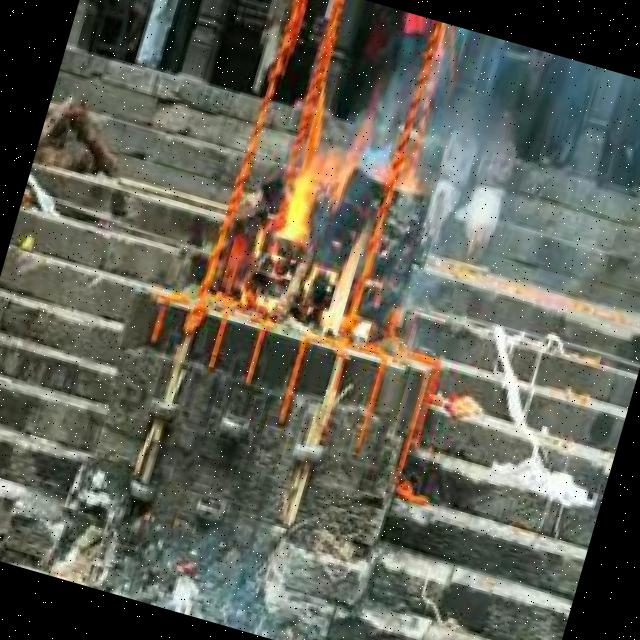fire: (256, 144, 336, 264)
